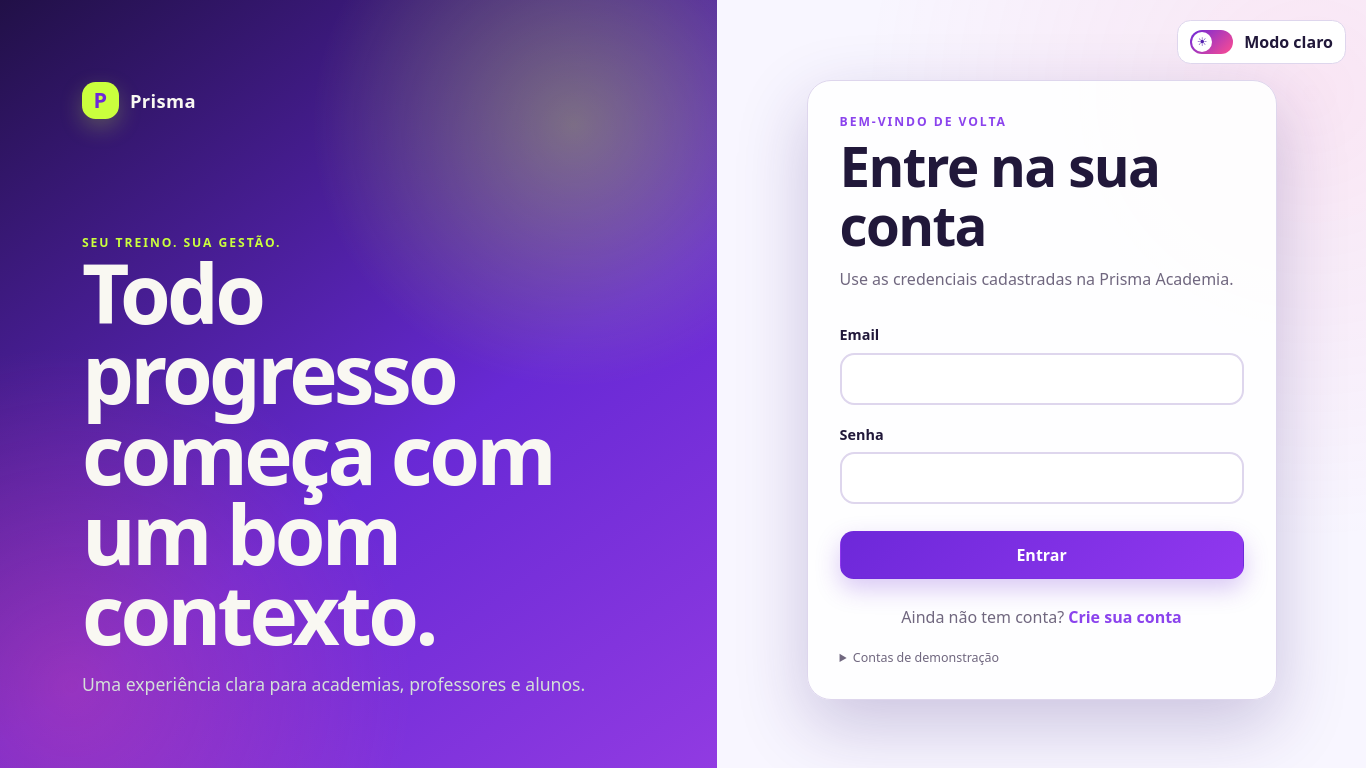
it: LoginPage › mostra mensagem segura para 401
In the field labelled "Email": {"x": 1042, "y": 379} [840,353,1244,405], type "aluno@prisma.test"
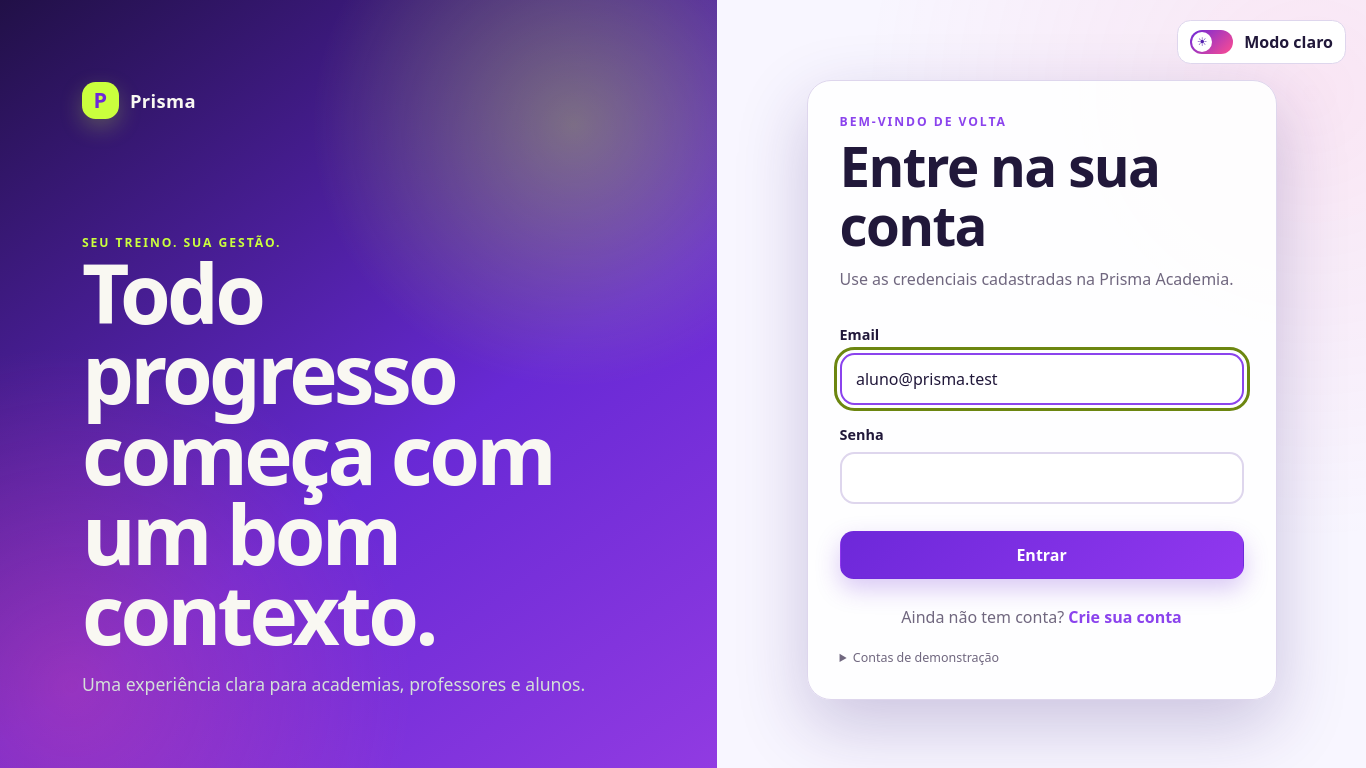
In the password field labelled "Senha": {"x": 1042, "y": 478} [840,452,1244,504], type "errada"
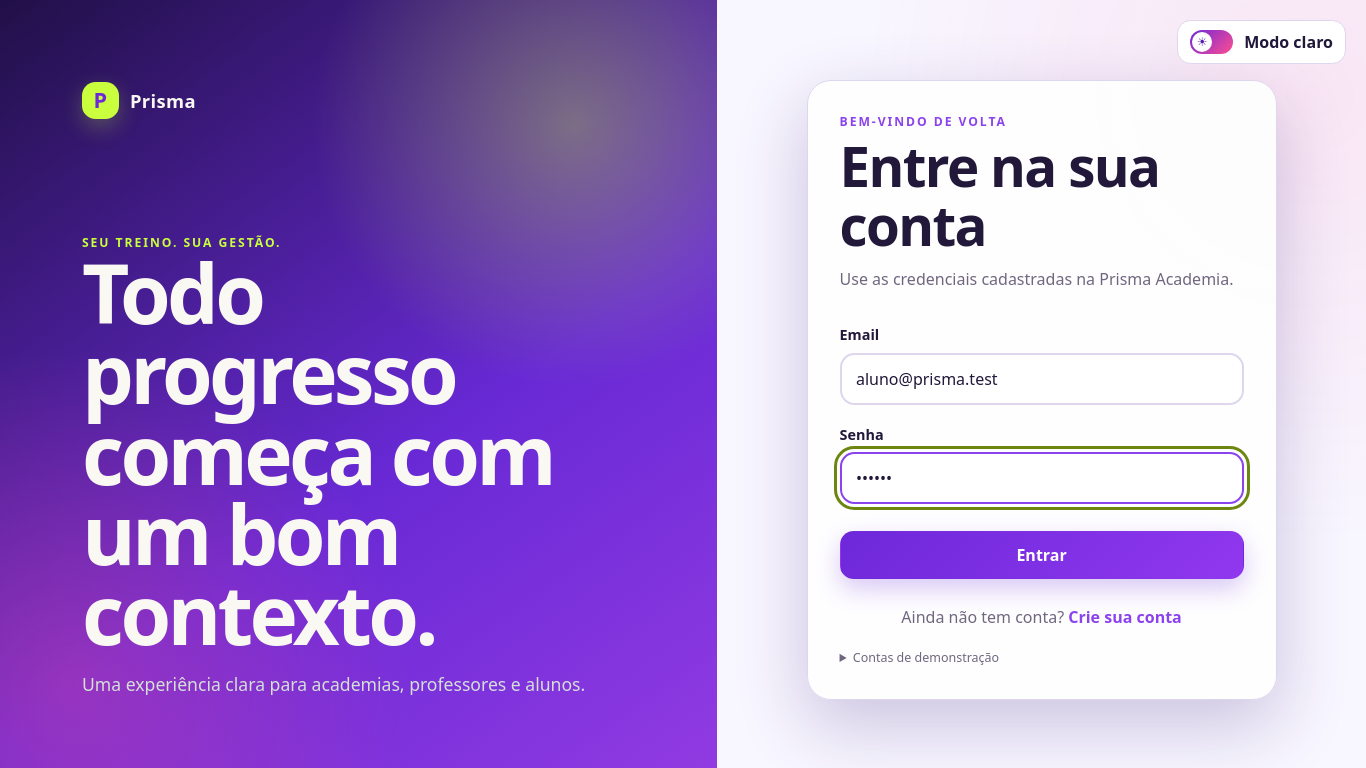
Click the button "Entrar": {"x": 1042, "y": 555} [840,531,1244,579]
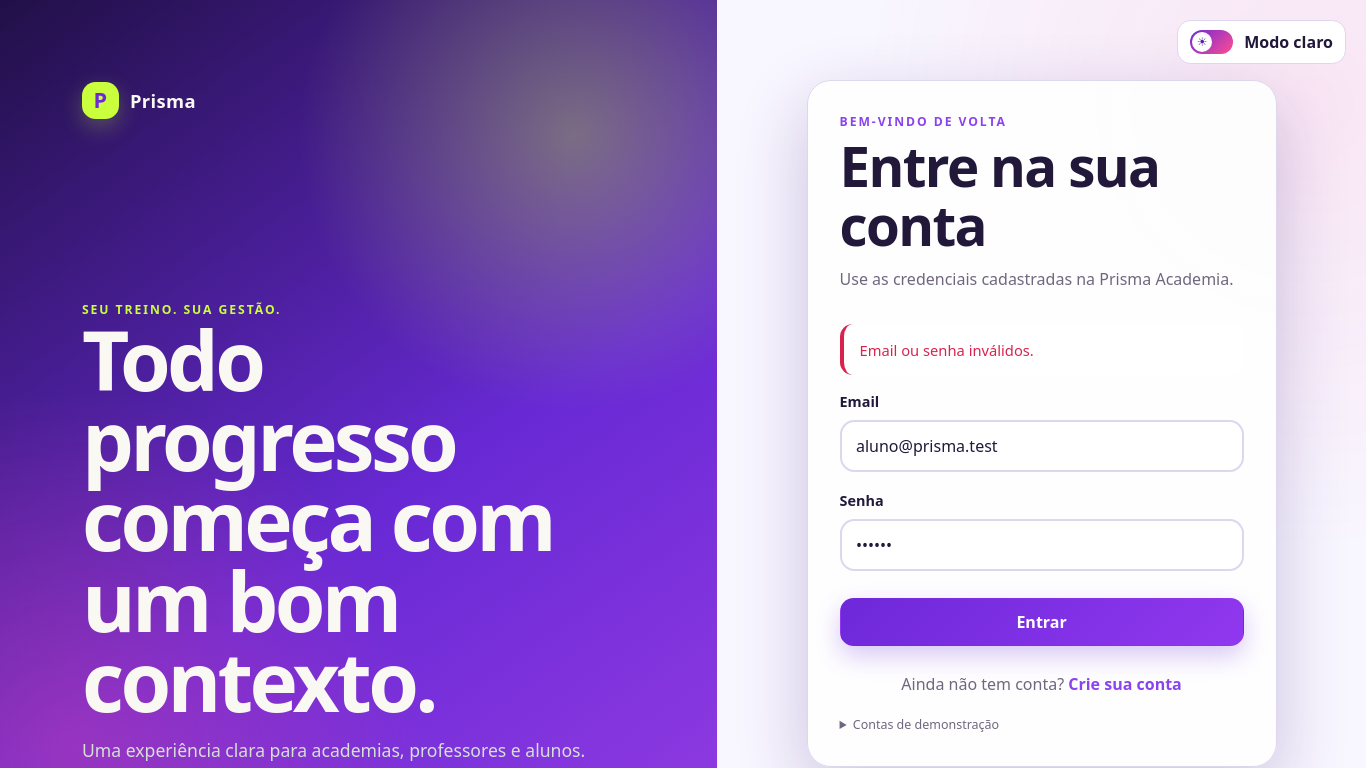
Result: the message shows "Email ou senha inválidos" at [860,340,1034,360]
